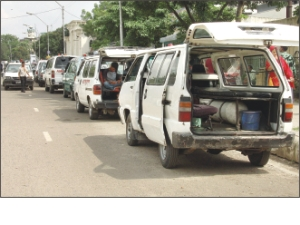ambulance: (117, 22, 300, 171), (72, 47, 136, 119), (3, 58, 34, 90), (44, 52, 66, 94), (64, 53, 80, 101)
